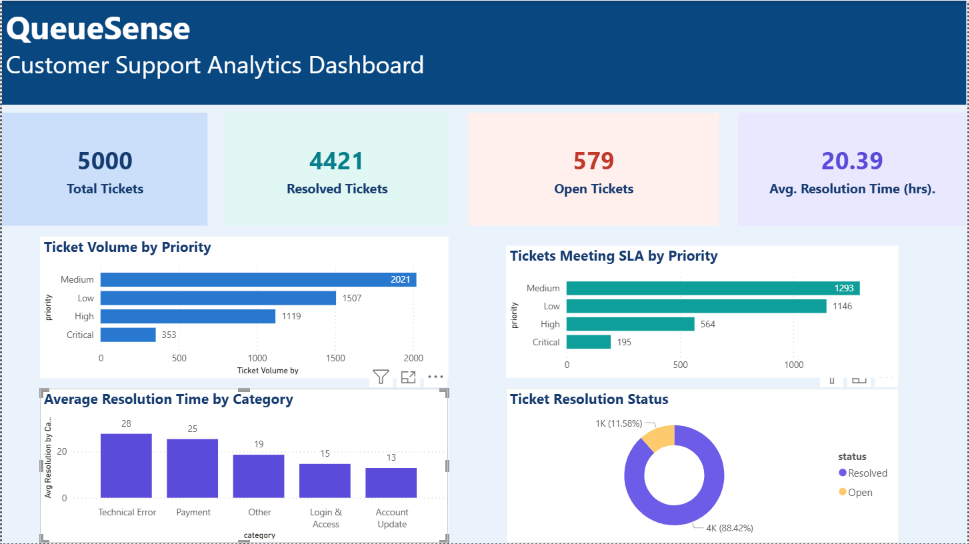

The dashboard page shown, as its layout file describes it:
{"tool":"powerbi","page":{"name":"Page 1","canvas":[1280,720],"ordinal":0},"visuals":[{"type":"clusteredBarChart","title":"Ticket Volume by Priority","fields":{"Category":["dashboard_summary.priority"],"Y":["Sum(dashboard_summary.ticket_count)"]},"box":[50,313.4,542.1,187.8],"z":0},{"type":"clusteredColumnChart","title":"Average Resolution Time by Category","fields":{"Y":["support_tickets.Avg Resolution by Category"],"Category":["support_tickets.category"]},"box":[50,514.8,542.1,204.4],"z":1000},{"type":"donutChart","title":"Ticket Resolution Status","fields":{"Category":["dashboard_summary.status"],"Y":["Sum(dashboard_summary.ticket_count)"]},"box":[669.3,514.8,520.9,204.4],"z":2000},{"type":"clusteredBarChart","title":"Tickets Meeting SLA by Priority","fields":{"Category":["dashboard_summary.priority"],"Y":["Sum(dashboard_summary.within_sla_count)"]},"box":[669.3,325.6,520.9,175.6],"z":3000},{"type":"textbox","box":[0,0,1279.5,137.8],"z":4000},{"type":"card","fields":{"Values":["Sum(dashboard_summary.ticket_count)"]},"box":[0,148.4,272.6,149.9],"z":5000},{"type":"card","fields":{"Values":["Sum(dashboard_summary.ticket_count)"]},"box":[295.3,148.4,296.8,149.9],"z":6000},{"type":"card","fields":{"Values":["Sum(dashboard_summary.ticket_count)"]},"box":[617.8,148.4,333.1,149.9],"z":7000},{"type":"card","fields":{"Values":["support_tickets.Average Resolution Hours"]},"box":[976.7,148.4,302.8,149.9],"z":8000}]}

Visuals, with their boxes in screenshot pixels (x1, y1, x2, y2), scaled from the page's 1280x720 canvas onto the 969x544 screenshot:
"Ticket Volume by Priority" clusteredBarChart: (38,237,448,379)
"Average Resolution Time by Category" clusteredColumnChart: (38,389,448,543)
"Ticket Resolution Status" donutChart: (507,389,901,543)
"Tickets Meeting SLA by Priority" clusteredBarChart: (507,246,901,379)
textbox: (0,0,968,104)
card - Sum(dashboard_summary.ticket_count): (0,112,206,225)
card - Sum(dashboard_summary.ticket_count): (224,112,448,225)
card - Sum(dashboard_summary.ticket_count): (468,112,720,225)
card - support_tickets.Average Resolution Hours: (739,112,968,225)
